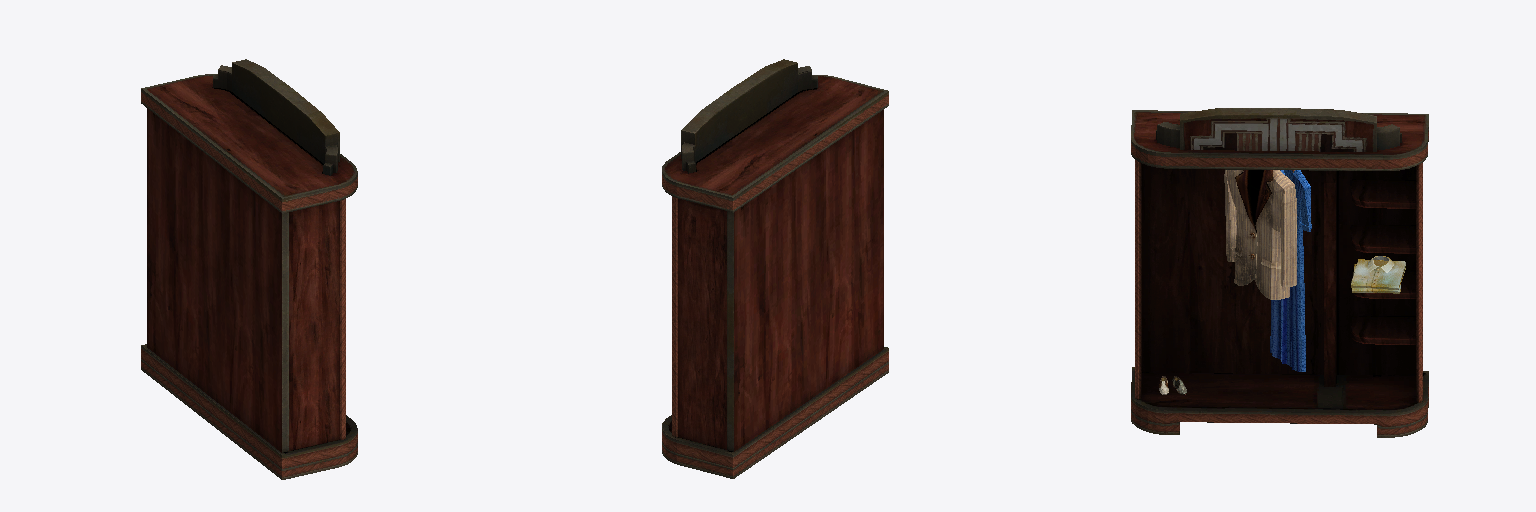
The picture shows the model from 3 angles: view 1: azimuth 30°, elevation 25°; view 2: azimuth 150°, elevation 25°; view 3: azimuth 270°, elevation 25°; orthographic projection.
Visible parts, largest first — view 1: ArmoireFULL; view 2: ArmoireFULL; view 3: ArmoireFULL.
Boxes of the visible parts, box(x1,y1,x2,y2) form: ArmoireFULL: box(141, 59, 357, 479); ArmoireFULL: box(662, 59, 888, 478); ArmoireFULL: box(1131, 108, 1428, 437).
Size of the model in its own units: 66.78 by 214 by 182.
Materials: 6 (6 with a texture image).